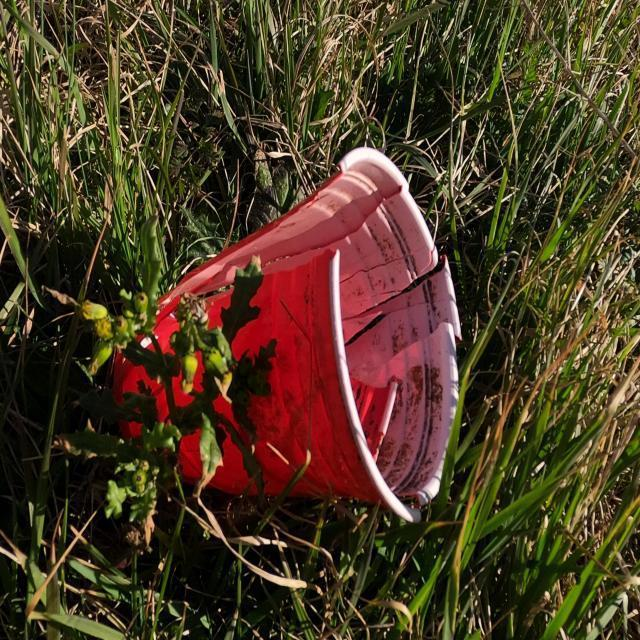Cup: (108, 142, 464, 528)
